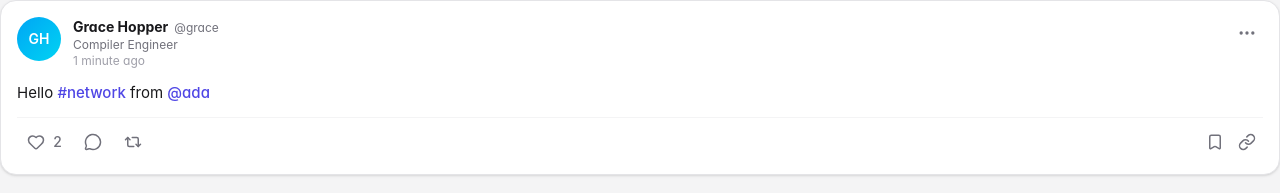
it: PostCard › hides edit/delete for other people’s posts
Click the button named "Post options" at (1247, 33), box [1231,17,1263,49]
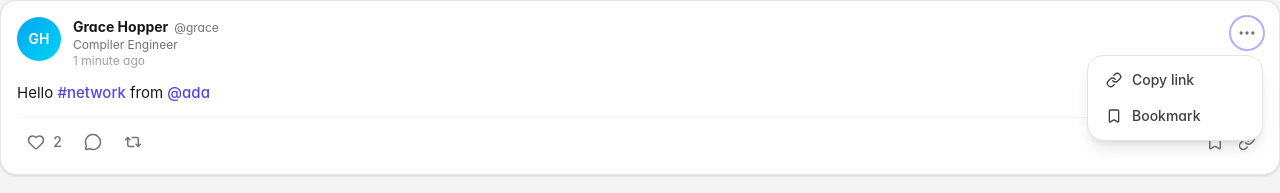
Now the menu item "Copy link" is shown, box [1094,62,1256,98]
